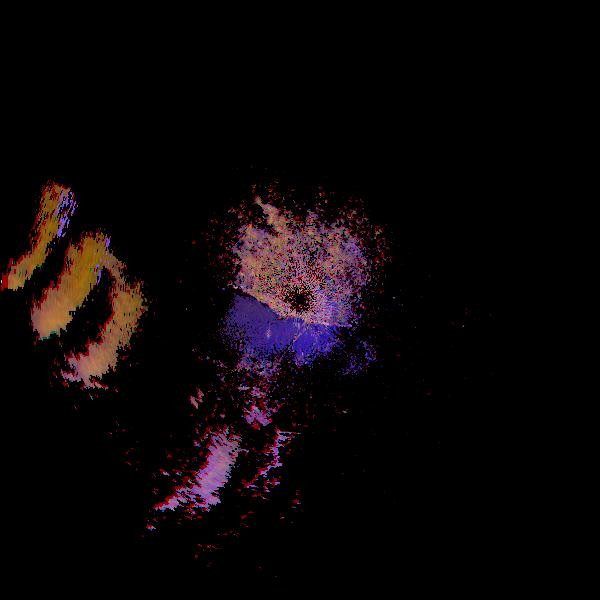roost: (55, 337, 262, 544), (113, 327, 317, 531)
